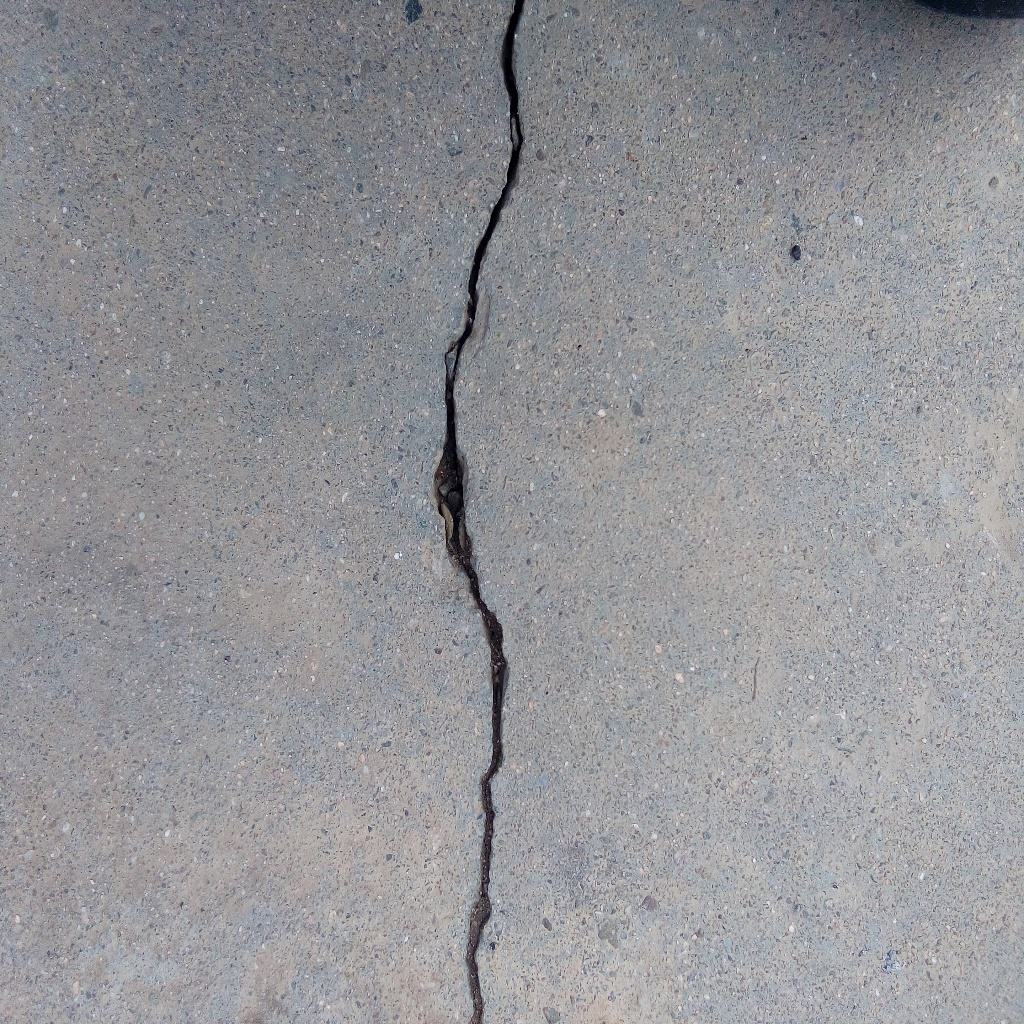Crack: (431, 1, 527, 1024)
